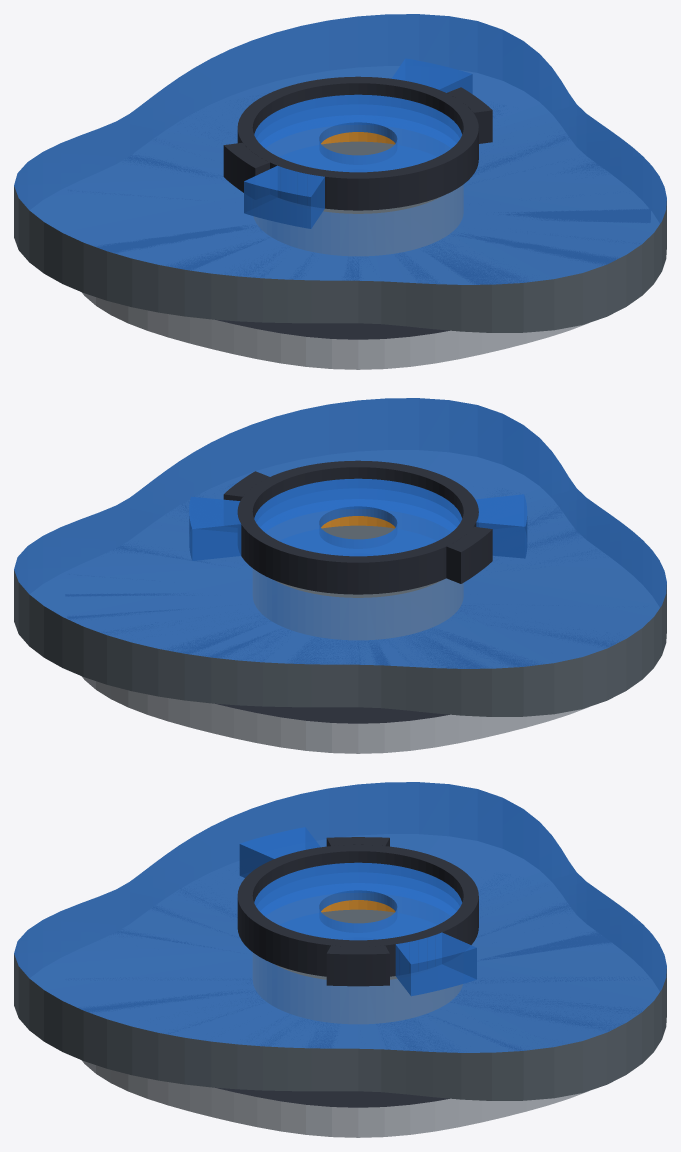
File: assembly_phase2b_core_void_falcon.glb
The picture shows the model from 3 angles, top to bottom: view 1: azimuth 30°, elevation 25°; view 2: azimuth 150°, elevation 25°; view 3: azimuth 270°, elevation 25°; orthographic projection.
Visible parts, largest first — view 1: GEO_blade_storm_fang_BODY, GEO_assist_heavy_BODY, GEO_core_void_falcon_HUB, GEO_core_void_falcon_NSS_V1_COLLAR, GEO_core_void_falcon_OUTER_ARC_2, GEO_core_void_falcon_OUTER_ARC_1, GEO_core_void_falcon_INNER_ARC_2, GEO_blade_storm_fang_NSS_V1_COLLAR, GEO_core_void_falcon_INNER_ARC_1; view 2: GEO_blade_storm_fang_BODY, GEO_assist_heavy_BODY, GEO_core_void_falcon_HUB, GEO_core_void_falcon_NSS_V1_COLLAR, GEO_core_void_falcon_OUTER_ARC_1, GEO_core_void_falcon_OUTER_ARC_2, GEO_core_void_falcon_INNER_ARC_2, GEO_blade_storm_fang_NSS_V1_COLLAR, GEO_core_void_falcon_INNER_ARC_1; view 3: GEO_blade_storm_fang_BODY, GEO_assist_heavy_BODY, GEO_core_void_falcon_NSS_V1_COLLAR, GEO_core_void_falcon_HUB, GEO_core_void_falcon_OUTER_ARC_1, GEO_core_void_falcon_INNER_ARC_1, GEO_core_void_falcon_OUTER_ARC_2, GEO_blade_storm_fang_NSS_V1_COLLAR, GEO_core_void_falcon_INNER_ARC_2.
Boxes of the visible parts, left/top/right/bottom form: GEO_blade_storm_fang_BODY: left=14, top=14, right=666, bottom=332; GEO_assist_heavy_BODY: left=81, top=106, right=650, bottom=369; GEO_core_void_falcon_HUB: left=237, top=76, right=478, bottom=210; GEO_core_void_falcon_NSS_V1_COLLAR: left=254, top=94, right=462, bottom=172; GEO_core_void_falcon_OUTER_ARC_2: left=244, top=165, right=324, bottom=228; GEO_core_void_falcon_OUTER_ARC_1: left=391, top=58, right=472, bottom=93; GEO_core_void_falcon_INNER_ARC_2: left=223, top=142, right=269, bottom=192; GEO_blade_storm_fang_NSS_V1_COLLAR: left=321, top=141, right=441, bottom=213; GEO_core_void_falcon_INNER_ARC_1: left=447, top=87, right=492, bottom=143; GEO_blade_storm_fang_BODY: left=14, top=398, right=666, bottom=716; GEO_assist_heavy_BODY: left=65, top=504, right=615, bottom=753; GEO_core_void_falcon_HUB: left=237, top=460, right=478, bottom=594; GEO_core_void_falcon_NSS_V1_COLLAR: left=254, top=478, right=462, bottom=556; GEO_core_void_falcon_OUTER_ARC_1: left=189, top=496, right=241, bottom=560; GEO_core_void_falcon_OUTER_ARC_2: left=475, top=494, right=527, bottom=558; GEO_core_void_falcon_INNER_ARC_2: left=446, top=526, right=492, bottom=583; GEO_blade_storm_fang_NSS_V1_COLLAR: left=274, top=525, right=441, bottom=597; GEO_core_void_falcon_INNER_ARC_1: left=223, top=471, right=269, bottom=500; GEO_blade_storm_fang_BODY: left=14, top=782, right=666, bottom=1100; GEO_assist_heavy_BODY: left=79, top=889, right=641, bottom=1137; GEO_core_void_falcon_NSS_V1_COLLAR: left=254, top=862, right=462, bottom=940; GEO_core_void_falcon_HUB: left=237, top=844, right=478, bottom=976; GEO_core_void_falcon_OUTER_ARC_1: left=395, top=932, right=476, bottom=996; GEO_core_void_falcon_INNER_ARC_1: left=326, top=945, right=389, bottom=986; GEO_core_void_falcon_OUTER_ARC_2: left=239, top=827, right=320, bottom=877; GEO_blade_storm_fang_NSS_V1_COLLAR: left=274, top=909, right=397, bottom=979; GEO_core_void_falcon_INNER_ARC_2: left=326, top=837, right=389, bottom=846.
Size of the model in its own units: 0.0664 by 0.0239 by 0.0669.
